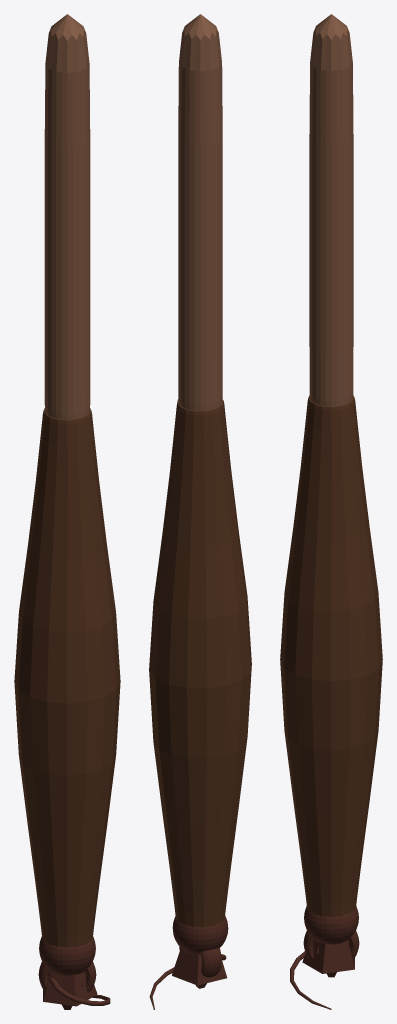
The model's file is Wand 117.glb.
The picture shows the model from 3 angles, left to right: view 1: azimuth 90°, elevation 25°; view 2: azimuth 210°, elevation 25°; view 3: azimuth 270°, elevation 25°; orthographic projection. The views are drawn at different scales.
Visible parts, largest first — view 1: GeneratedWand, Pommel_4, Pommel_9, Pommel_2, Pommel_10; view 2: GeneratedWand, Pommel_4, Pommel_9, Pommel_2; view 3: GeneratedWand, Pommel_4, Pommel_9, Pommel_2, Pommel_10.
Part boxes in pixels (<box>): GeneratedWand: <box>14,14,120,947</box>; Pommel_4: <box>39,936,95,975</box>; Pommel_9: <box>43,971,97,1006</box>; Pommel_2: <box>38,961,96,992</box>; Pommel_10: <box>48,971,110,1005</box>; GeneratedWand: <box>149,14,251,927</box>; Pommel_4: <box>172,916,228,954</box>; Pommel_9: <box>172,948,227,985</box>; Pommel_2: <box>179,946,221,977</box>; GeneratedWand: <box>280,14,382,917</box>; Pommel_4: <box>304,906,358,944</box>; Pommel_9: <box>302,940,354,973</box>; Pommel_2: <box>303,931,359,960</box>; Pommel_10: <box>290,951,331,1009</box>.
Size of the model in its own units: 0.0507 by 0.5214 by 0.0499.
